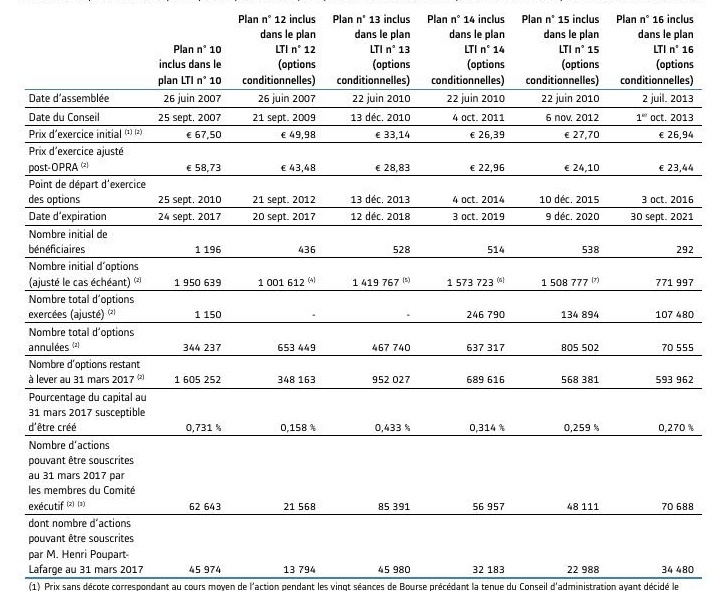table: (0, 0, 722, 591)
